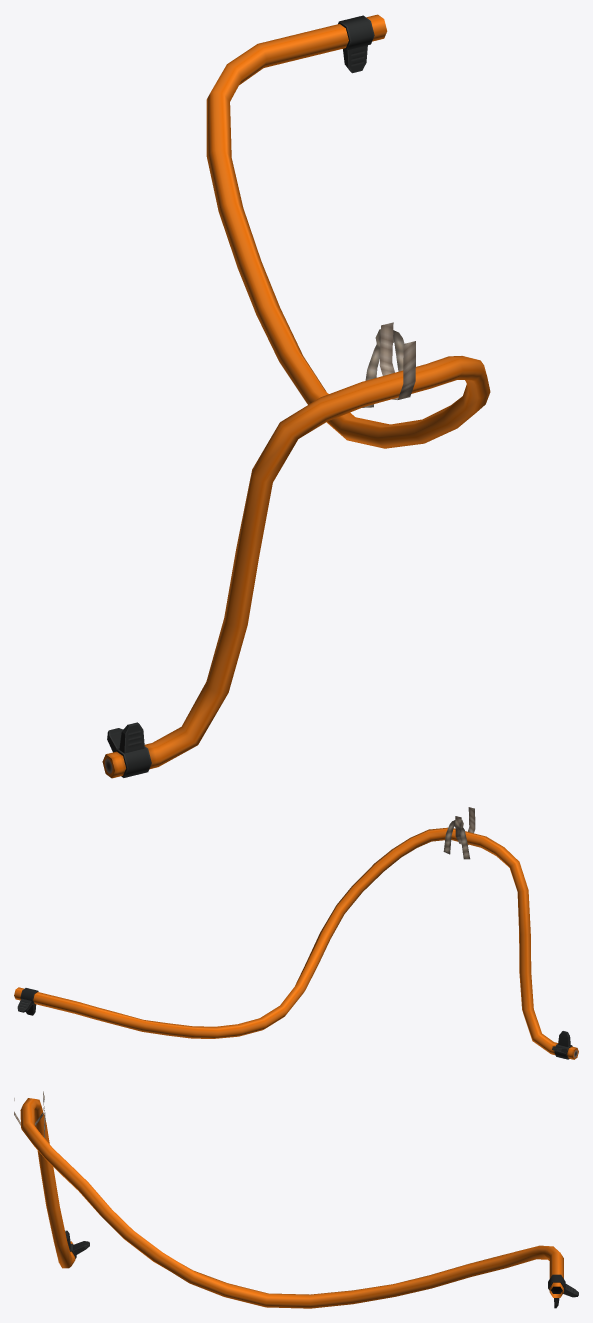
The model's file is jsf_GasRange_14b.fbx.
3 views of the same model, one above another, from view 1: azimuth 30°, elevation 25°; view 2: azimuth 150°, elevation 25°; view 3: azimuth 270°, elevation 25° (orthographic). The views are drawn at different scales.
Visible parts, largest first — view 1: GasHose; view 2: GasHose; view 3: GasHose.
Part boxes in pixels (bbox=[...]): GasHose: bbox=[102, 14, 490, 778]; GasHose: bbox=[14, 807, 578, 1059]; GasHose: bbox=[14, 1091, 578, 1308].
Bounding box in the file's own units: 56.81 × 31.85 × 69.18.
